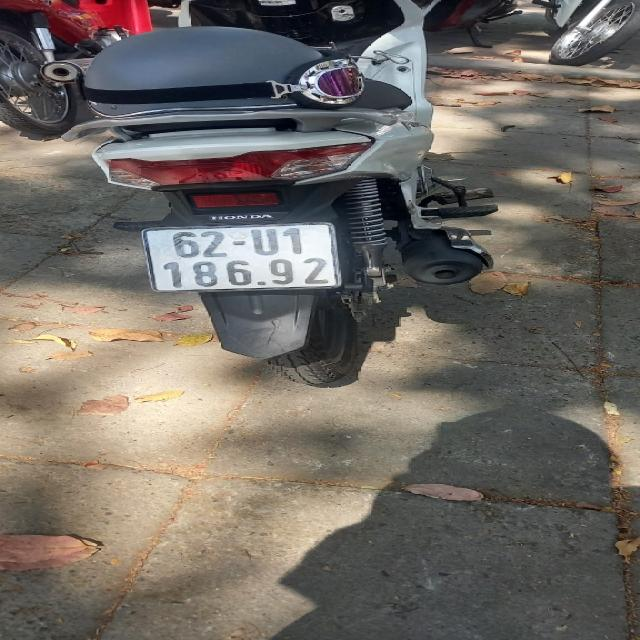1: (161, 260, 186, 288), (282, 228, 306, 254)
2: (198, 230, 230, 258), (300, 257, 330, 284)
6: (172, 230, 200, 258), (225, 260, 252, 285)
8: (192, 261, 224, 288)
9: (269, 258, 297, 286)
U: (248, 228, 284, 256)
